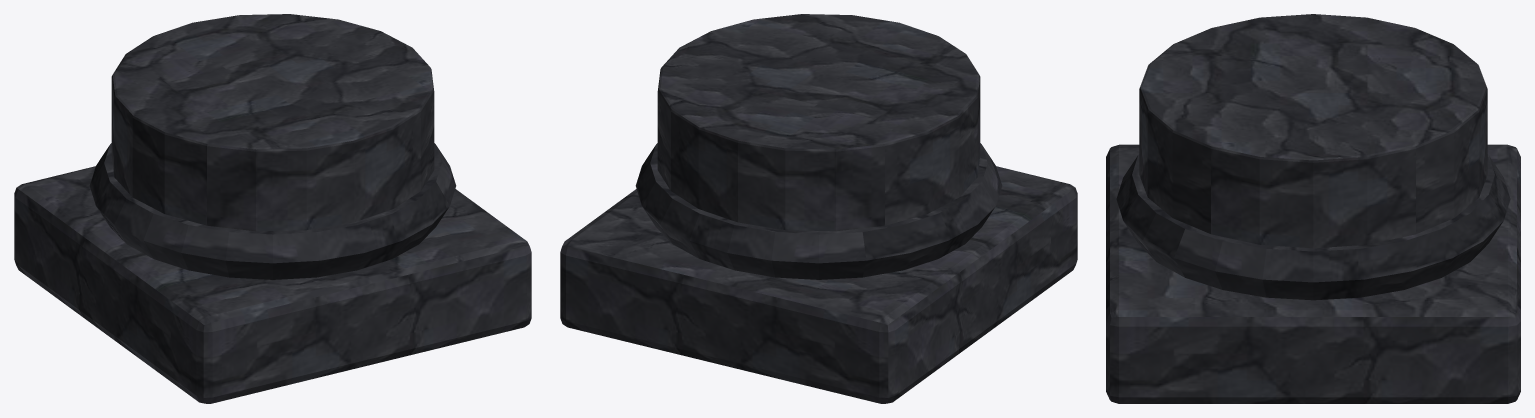
File: column_base__basalt.glb
The picture shows the model from 3 angles, left to right: view 1: azimuth 30°, elevation 25°; view 2: azimuth 150°, elevation 25°; view 3: azimuth 270°, elevation 25°; orthographic projection. The views are drawn at different scales.
Parts seen in each view (by area): view 1: model; view 2: model; view 3: model.
Boxes of the visible parts, left/top/right/bottom form: model: left=14, top=14, right=531, bottom=403; model: left=560, top=14, right=1077, bottom=403; model: left=1106, top=14, right=1520, bottom=403.
Size of the model in its own units: 0.8 by 0.5 by 0.8.
2 materials, 2 textured.
